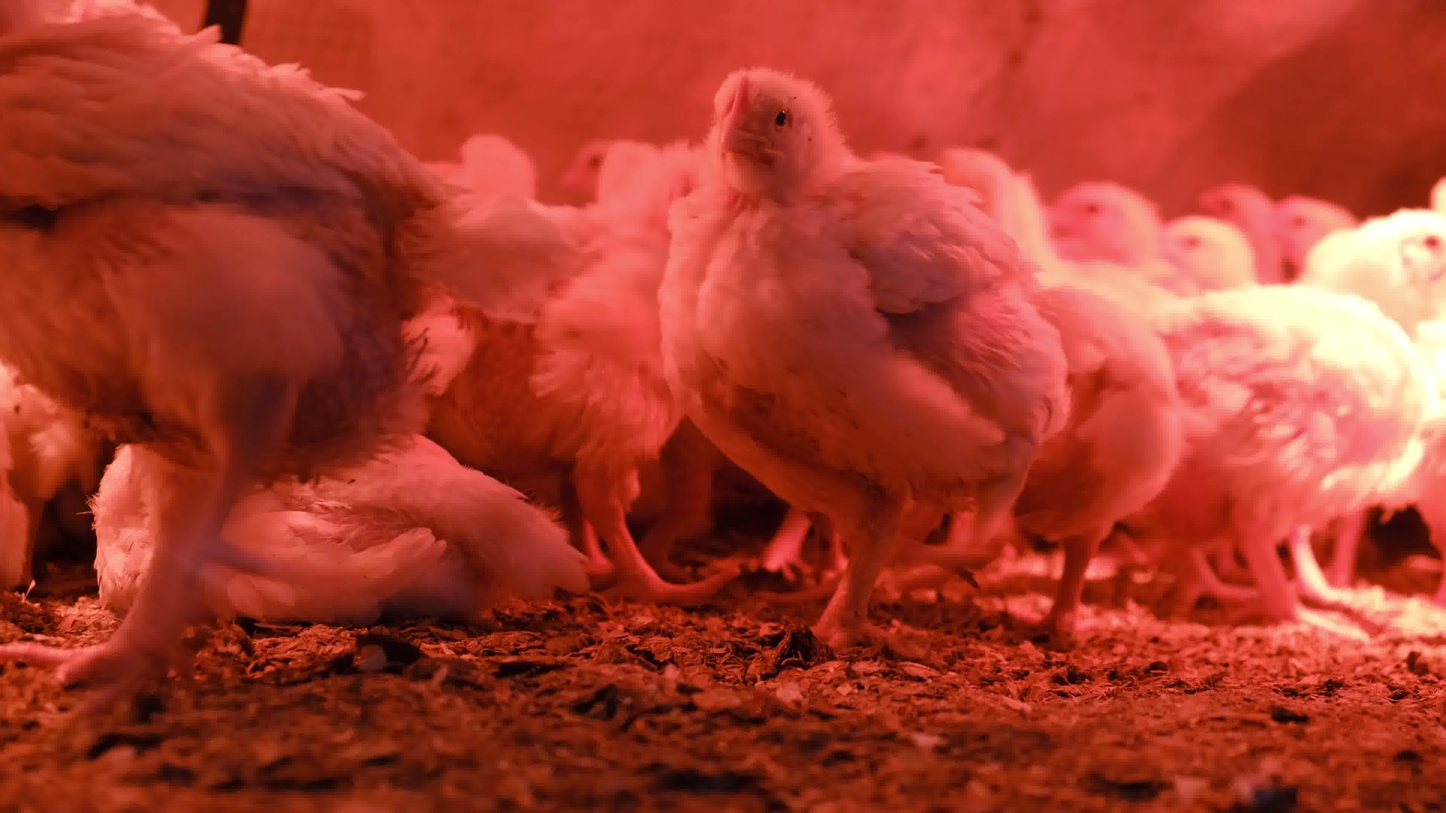AbNormal: (107, 373, 599, 640)
Normal: (0, 0, 435, 811), (644, 19, 1117, 709), (463, 81, 747, 614), (941, 111, 1209, 662), (1199, 183, 1446, 679), (1107, 119, 1282, 339), (1052, 164, 1188, 335)
